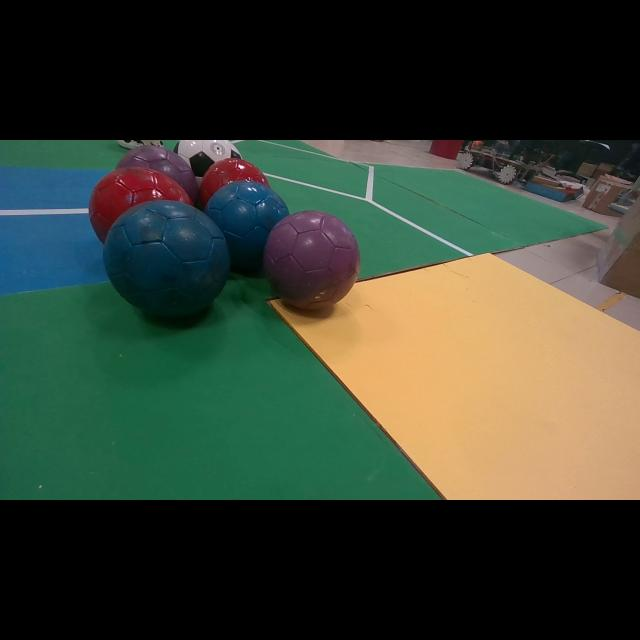B: (104, 200, 230, 316), (205, 180, 289, 271)
P: (262, 210, 360, 310), (116, 145, 198, 202)
R: (89, 168, 194, 242), (200, 158, 269, 207)
